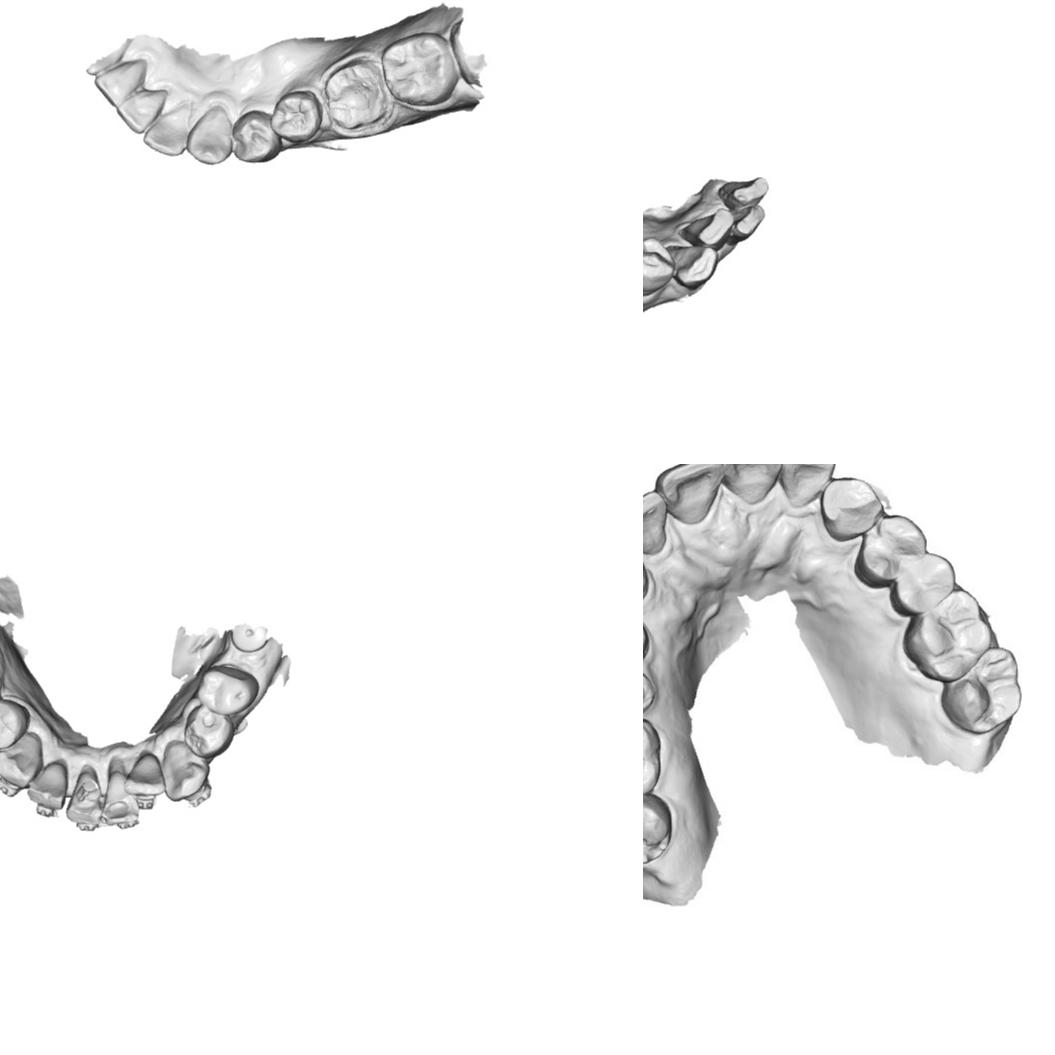canine: (185, 102, 236, 168), (160, 739, 210, 802), (664, 242, 720, 289), (0, 730, 43, 790)
crown: (319, 55, 391, 134)
implant: (230, 622, 268, 654)
incisor: (651, 464, 724, 528), (717, 464, 787, 507), (92, 57, 149, 108), (777, 464, 839, 510), (142, 108, 194, 158), (677, 207, 735, 250), (115, 88, 169, 134), (65, 769, 104, 826), (122, 748, 166, 798), (24, 760, 68, 810), (101, 770, 139, 827), (715, 176, 770, 210), (643, 489, 669, 555), (727, 202, 766, 244)
molar: (901, 585, 995, 685), (939, 644, 1024, 734), (378, 30, 463, 110), (643, 791, 679, 872), (643, 713, 668, 799)
premolar: (850, 512, 930, 590), (888, 547, 957, 619), (818, 474, 880, 543), (195, 664, 260, 717), (268, 90, 322, 144), (182, 704, 235, 759), (231, 108, 282, 164), (643, 236, 676, 296), (0, 699, 30, 751)
